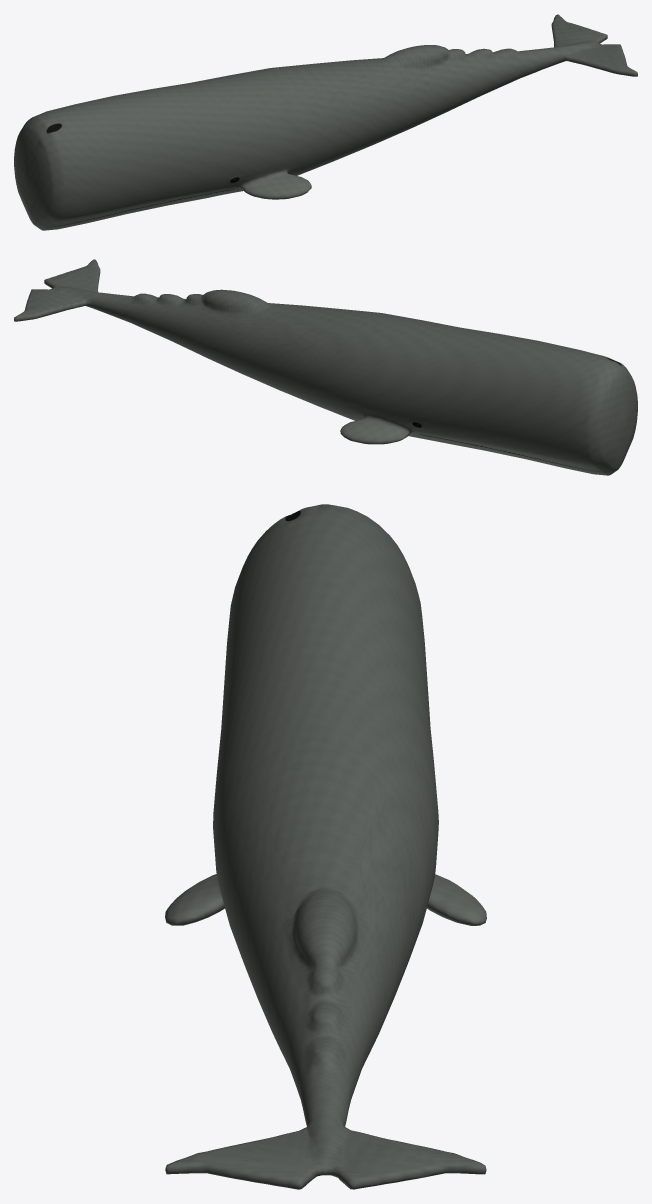
3 renders of one model, top to bottom at view 1: azimuth 30°, elevation 25°; view 2: azimuth 150°, elevation 25°; view 3: azimuth 270°, elevation 25°, orthographic. The views are drawn at different scales.
Parts seen in each view (by area): view 1: NEW413_whole_sperm_whale; view 2: NEW413_whole_sperm_whale; view 3: NEW413_whole_sperm_whale.
Boxes of the visible parts, x1=… form: NEW413_whole_sperm_whale: x1=14, y1=14, x2=637, y2=230; NEW413_whole_sperm_whale: x1=14, y1=259, x2=637, y2=475; NEW413_whole_sperm_whale: x1=165, y1=504, x2=486, y2=1189.
Size of the model in its own units: 14.89 by 2.88 by 3.53.
1 material, 1 textured.
